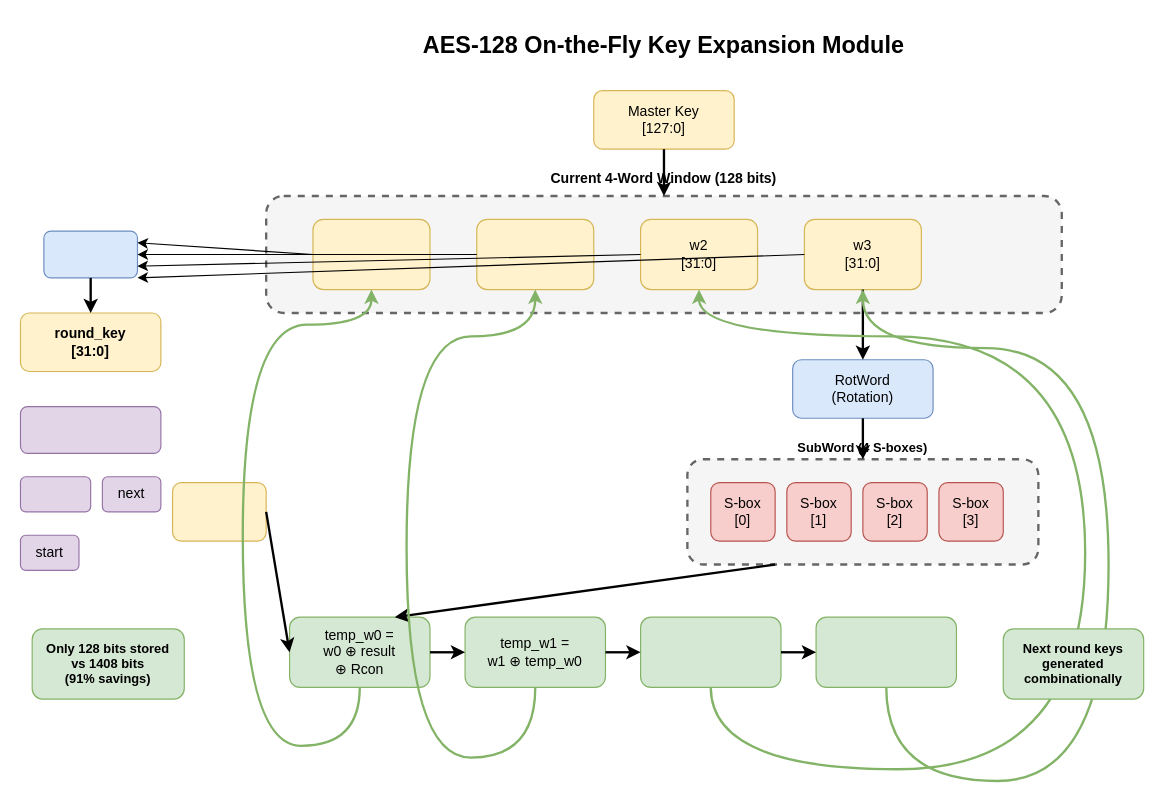
Some shapes in this 1164 by 803 pixel diagram are drawn without their labels. Each missing label, with the box of its shape:
Output MUX: (43, 230, 137, 278)
Rcon (round): (171, 481, 266, 541)
ready: (19, 476, 91, 512)
temp_w2 = w2 ⊕ temp_w1: (639, 616, 781, 687)
temp_w3 = w3 ⊕ temp_w2: (815, 616, 956, 687)
w0 [31:0]: (312, 218, 430, 290)
w1 [31:0]: (476, 218, 594, 290)
word_addr[5:0] (0-43): (19, 405, 161, 453)
